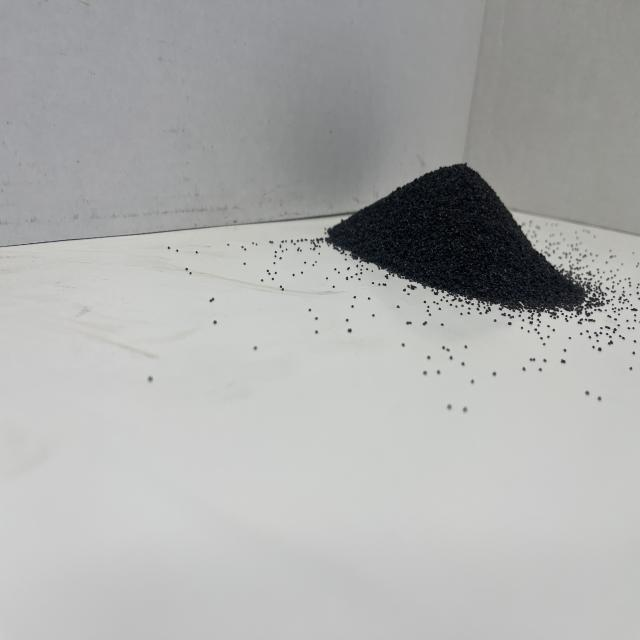Poppy Seeds: (329, 137, 589, 329)
